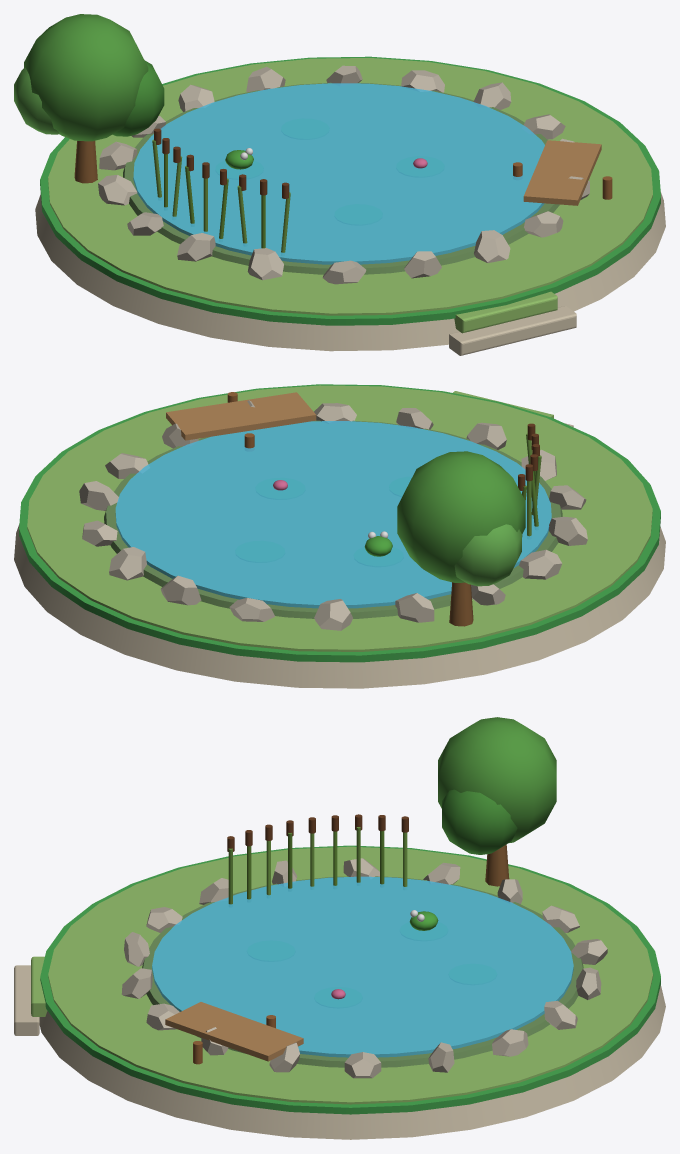
File: pond.glb
The picture shows the model from 3 angles, top to bottom: view 1: azimuth 30°, elevation 25°; view 2: azimuth 150°, elevation 25°; view 3: azimuth 270°, elevation 25°; orthographic projection. The views are drawn at different scales.
Parts seen in each view (by area): view 1: part_000, part_001; view 2: part_000, part_001; view 3: part_000, part_001.
Part boxes in pixels (left/top/right/bottom): part_000: left=14, top=14, right=665, bottom=355; part_001: left=133, top=83, right=544, bottom=264; part_000: left=14, top=384, right=665, bottom=688; part_001: left=115, top=421, right=551, bottom=608; part_000: left=14, top=717, right=665, bottom=1139; part_001: left=152, top=876, right=573, bottom=1057.
Size of the model in its own units: 10.32 by 3.46 by 10.67.
